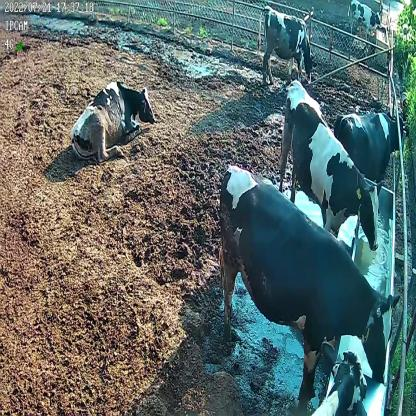cow: (219, 164, 401, 399), (279, 76, 383, 254), (73, 80, 155, 164), (334, 109, 410, 186), (255, 6, 314, 84), (348, 1, 383, 40)
